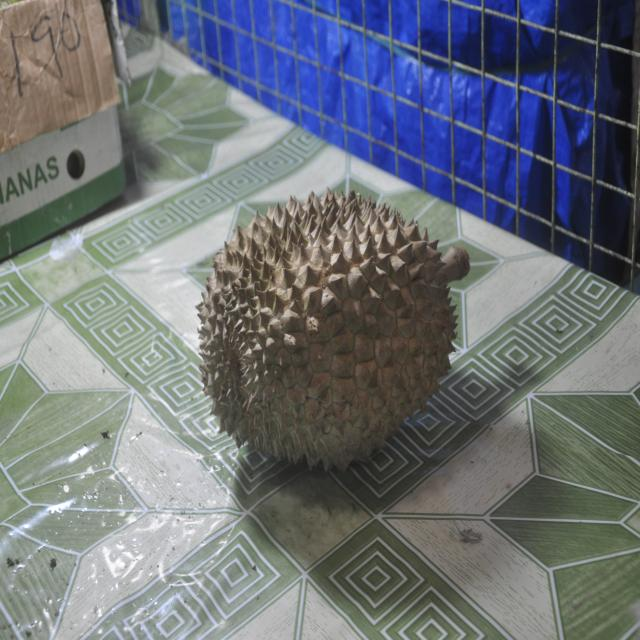mature: (196, 191, 469, 471)
